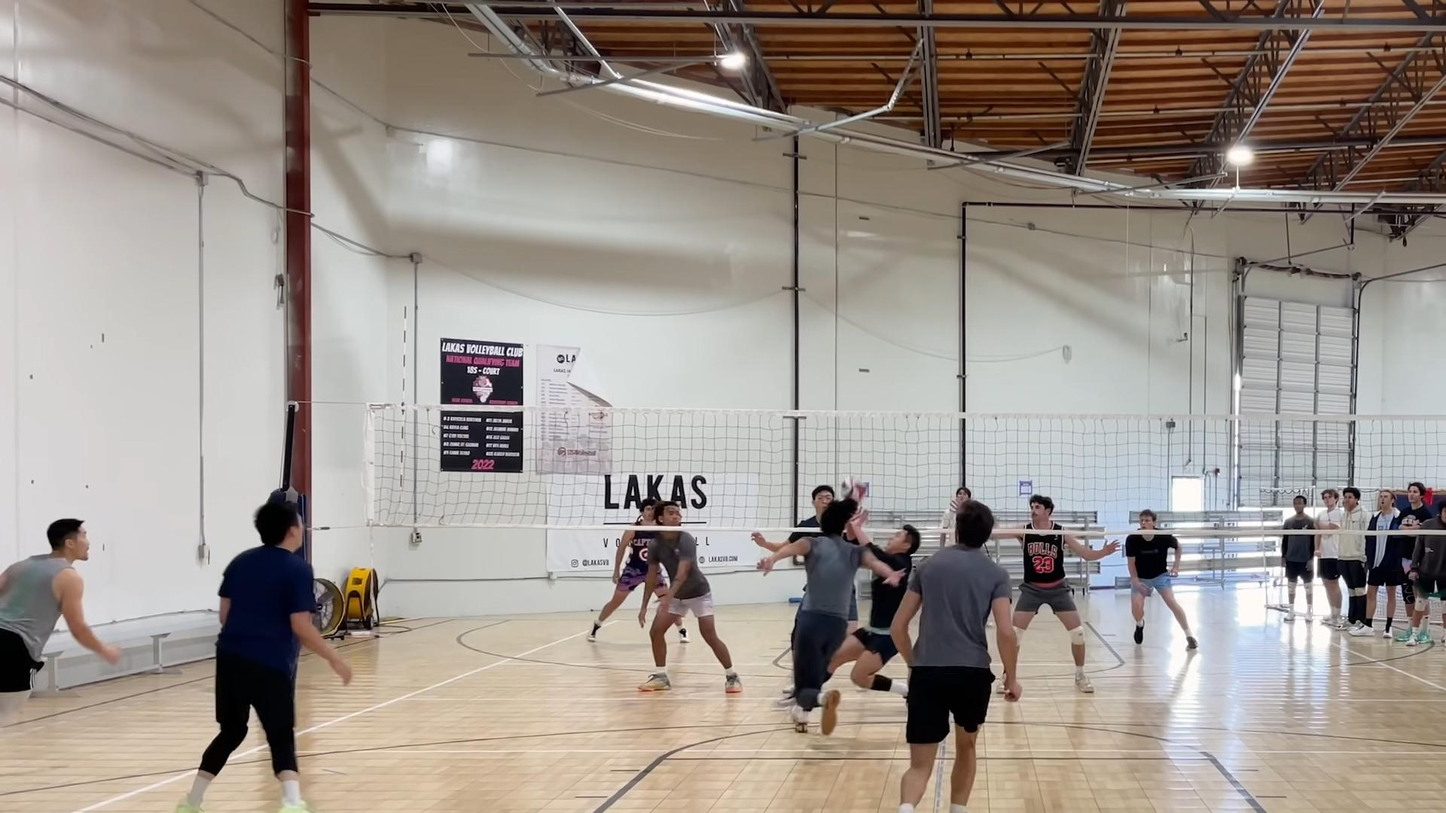alzata: (775, 509, 926, 709)
